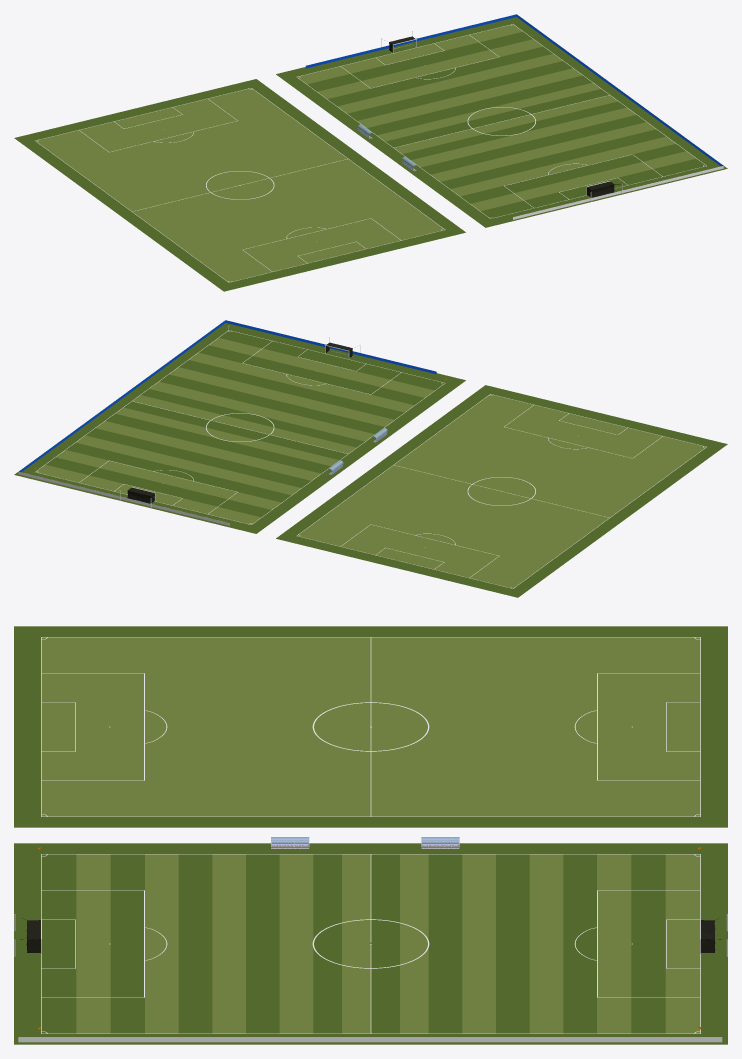
File: footballpitchv3.glb
3 renders of one model, top to bottom at view 1: azimuth 30°, elevation 25°; view 2: azimuth 150°, elevation 25°; view 3: azimuth 270°, elevation 25°, orthographic. The views are drawn at different scales.
Visible parts, largest first — view 1: FootballPitch5_3Check_9, FootballPitch5_3_0, Advertising_10; view 2: FootballPitch5_3Check_9, FootballPitch5_3_0, Advertising_10; view 3: FootballPitch5_3Check_9, FootballPitch5_3_0, Advertising_10.
Boxes of the visible parts, left/top/right/bottom form: FootballPitch5_3Check_9: left=14, top=79, right=465, bottom=291; FootballPitch5_3_0: left=276, top=17, right=727, bottom=227; Advertising_10: left=305, top=14, right=723, bottom=219; FootballPitch5_3Check_9: left=276, top=385, right=727, bottom=597; FootballPitch5_3_0: left=14, top=323, right=465, bottom=533; Advertising_10: left=18, top=320, right=436, bottom=525; FootballPitch5_3Check_9: left=14, top=626, right=727, bottom=827; FootballPitch5_3_0: left=14, top=843, right=727, bottom=1044; Advertising_10: left=18, top=1037, right=722, bottom=1042.
Size of the model in its own units: 158 by 3.06 by 114.
15 materials, 9 textured.
